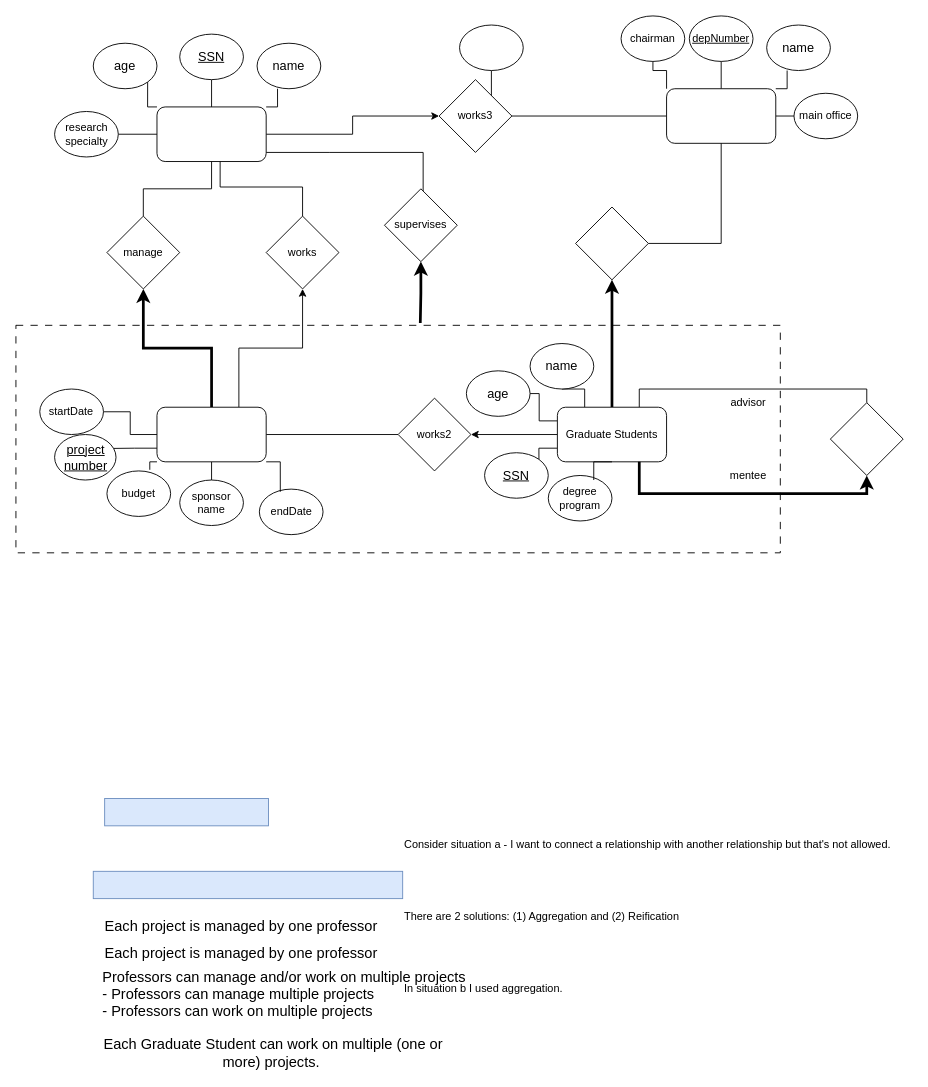
Image size: 928x1087. Some labels were removed from this diagram. Each missing label, with the box of its shape:
Assumptions: (104, 798, 268, 826)
Cardinality Constraints: (92, 870, 403, 899)
Department: (666, 88, 776, 143)
in: (575, 206, 648, 280)
Professors: (156, 106, 266, 162)
Projects: (156, 406, 266, 462)
student advisor: (829, 402, 903, 475)
time percentage: (459, 24, 523, 71)
